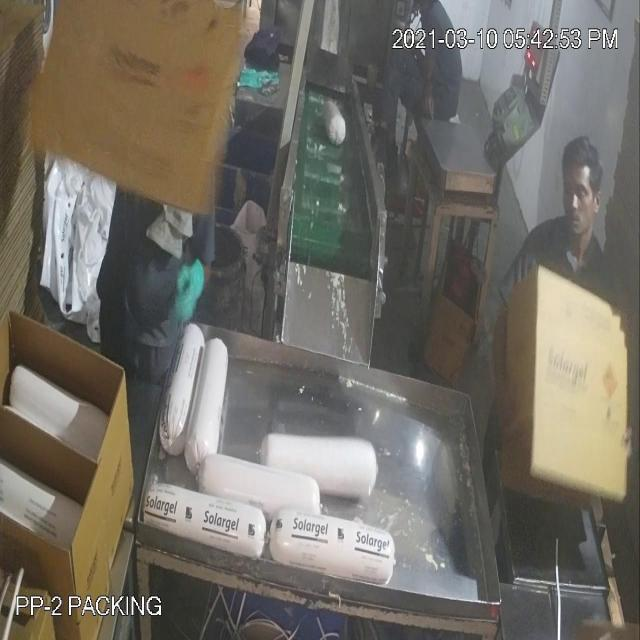Gloves: (39, 99, 499, 372)
